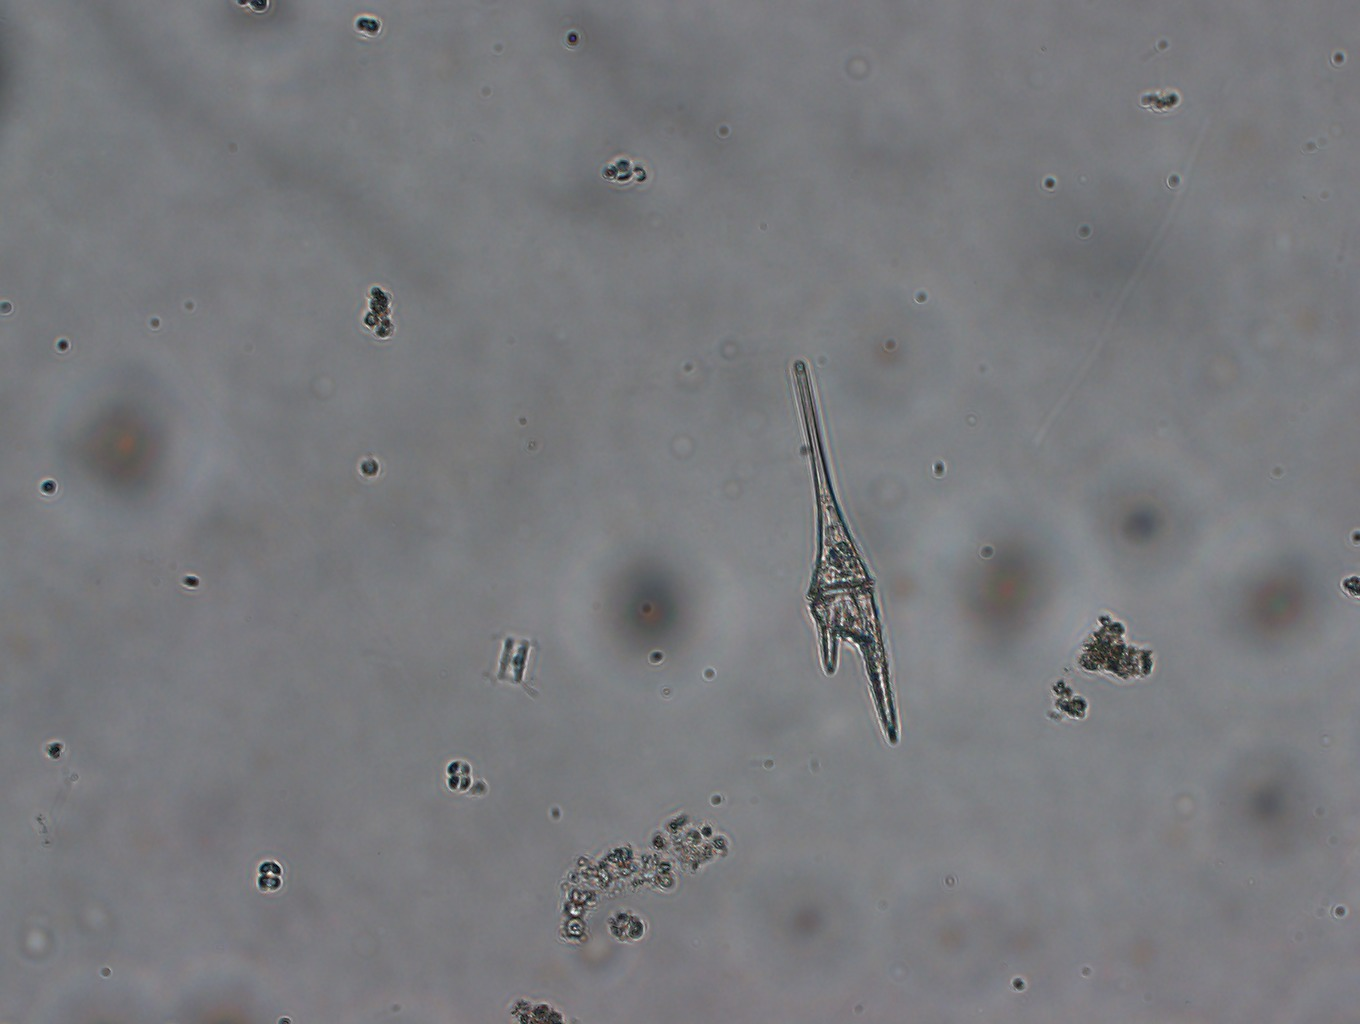ceratium furca: (783, 358, 910, 755)
